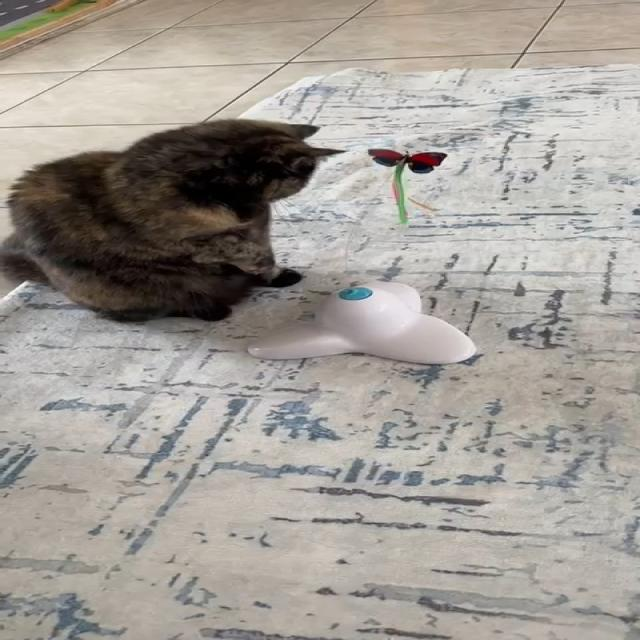authorized: (0, 117, 347, 323)
